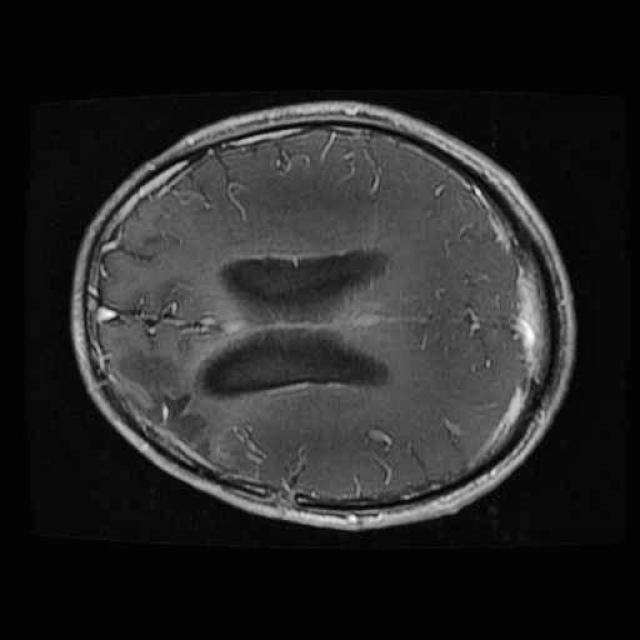Tumor: (96, 321, 230, 487)
